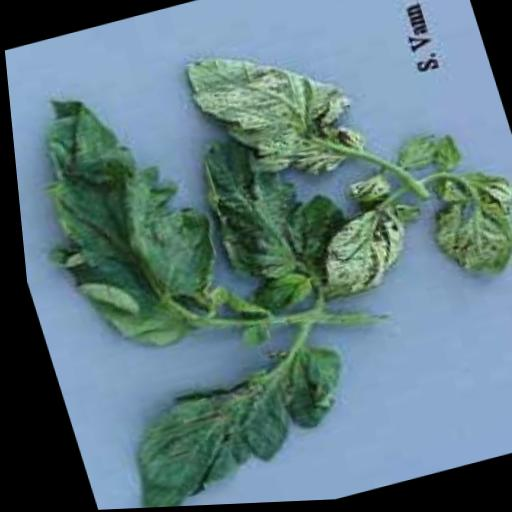Bacterial Spot: (5, 61, 244, 374), (88, 333, 369, 510), (166, 15, 363, 197), (299, 195, 431, 306)
